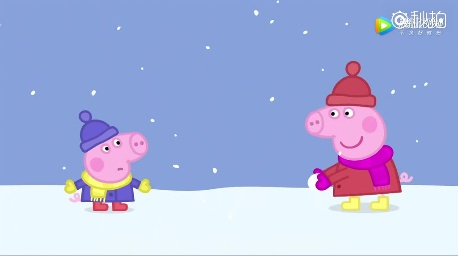Peppa: (304, 59, 415, 212)
